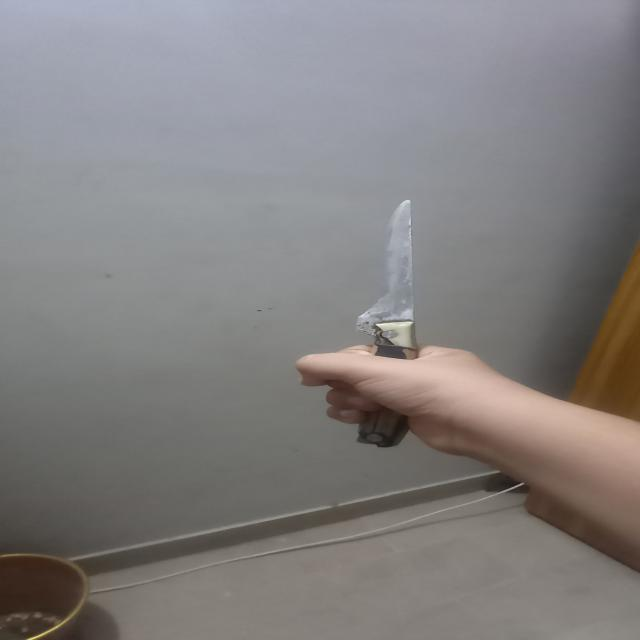Knife: (312, 192, 423, 458)
